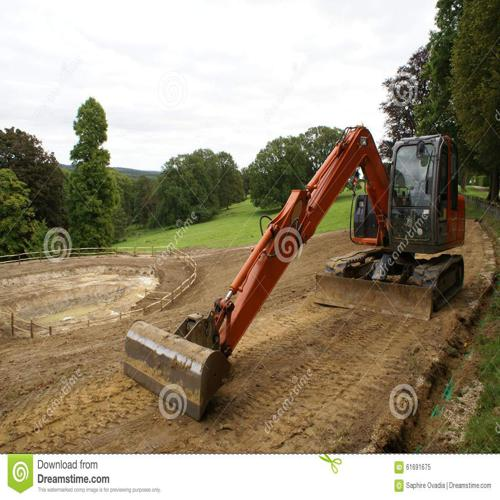con_eq: (123, 113, 461, 412)
